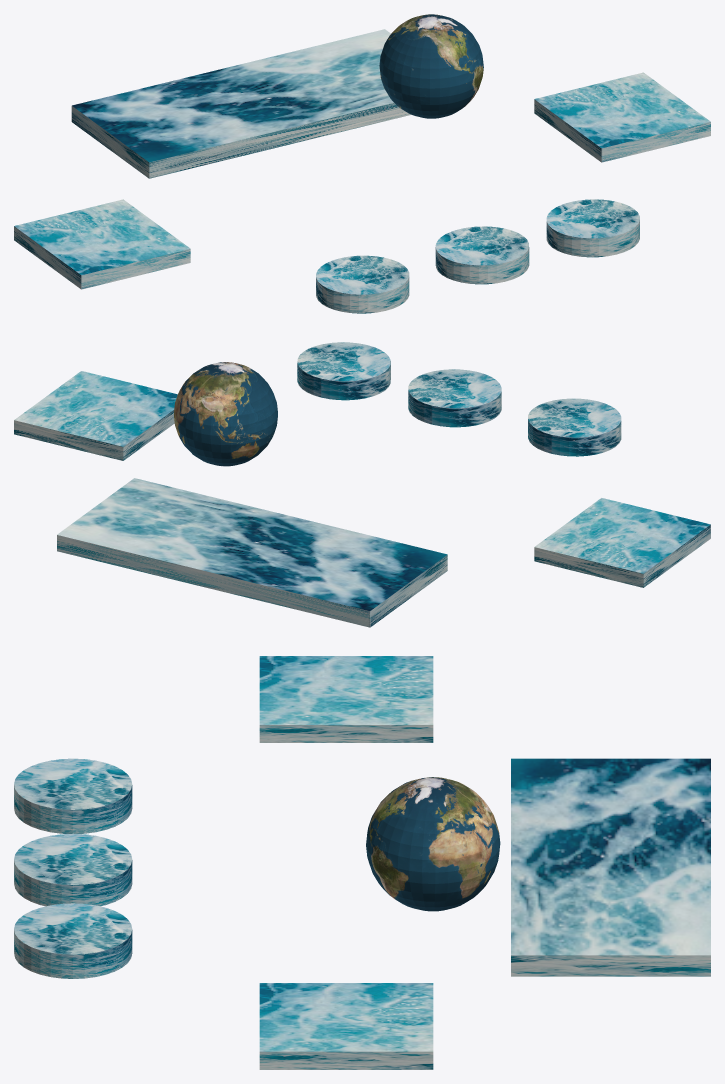
The model's file is businesscard.glb.
The picture shows the model from 3 angles, top to bottom: view 1: azimuth 30°, elevation 25°; view 2: azimuth 150°, elevation 25°; view 3: azimuth 270°, elevation 25°; orthographic projection. The views are drawn at different scales.
Visible parts, largest first — view 1: Cube.001, Earth; view 2: Cube.001, Earth; view 3: Cube.001, Earth.
Boxes of the visible parts, x1,y1,x2,y2 form: Cube.001: [14, 29, 710, 313]; Earth: [379, 14, 483, 118]; Cube.001: [14, 342, 710, 627]; Earth: [174, 362, 277, 466]; Cube.001: [14, 656, 710, 1069]; Earth: [366, 777, 500, 911].
Size of the model in its own units: 6.96 by 1.28 by 5.18.
Materials: 2 (2 with a texture image).
